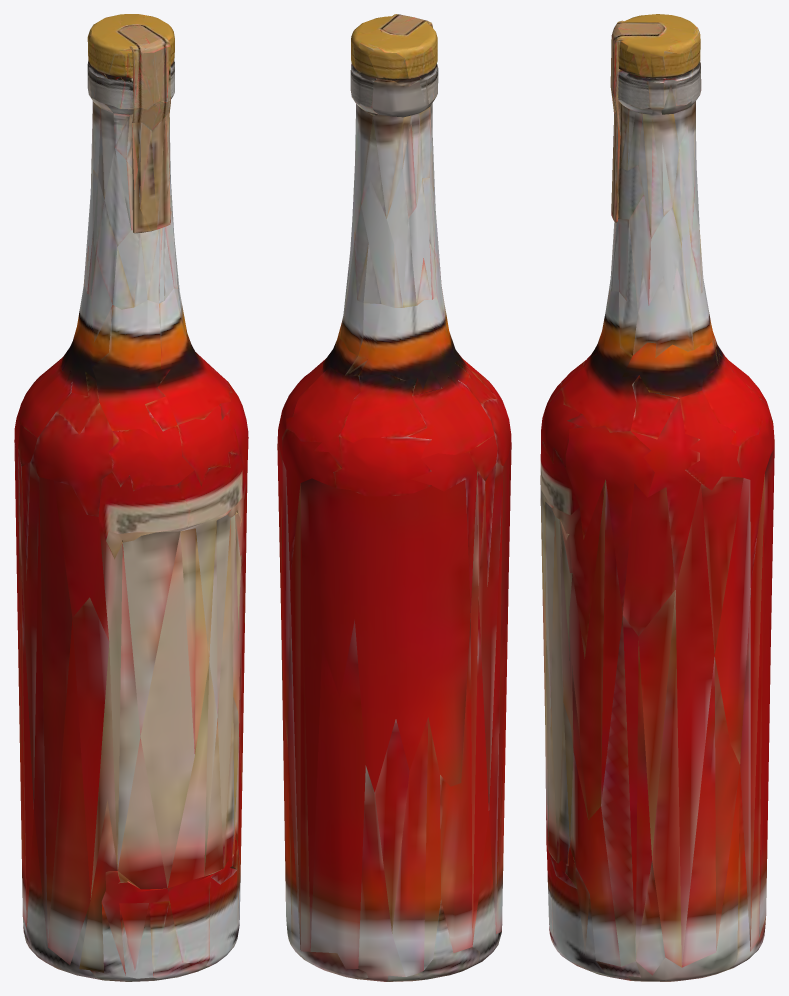
The model's file is rum-slim.glb.
3 renders of one model, left to right at view 1: azimuth 30°, elevation 25°; view 2: azimuth 150°, elevation 25°; view 3: azimuth 270°, elevation 25°, orthographic.
Size of the model in its own units: 0.4429 by 1.9 by 0.4436.
1 material, 1 textured.
